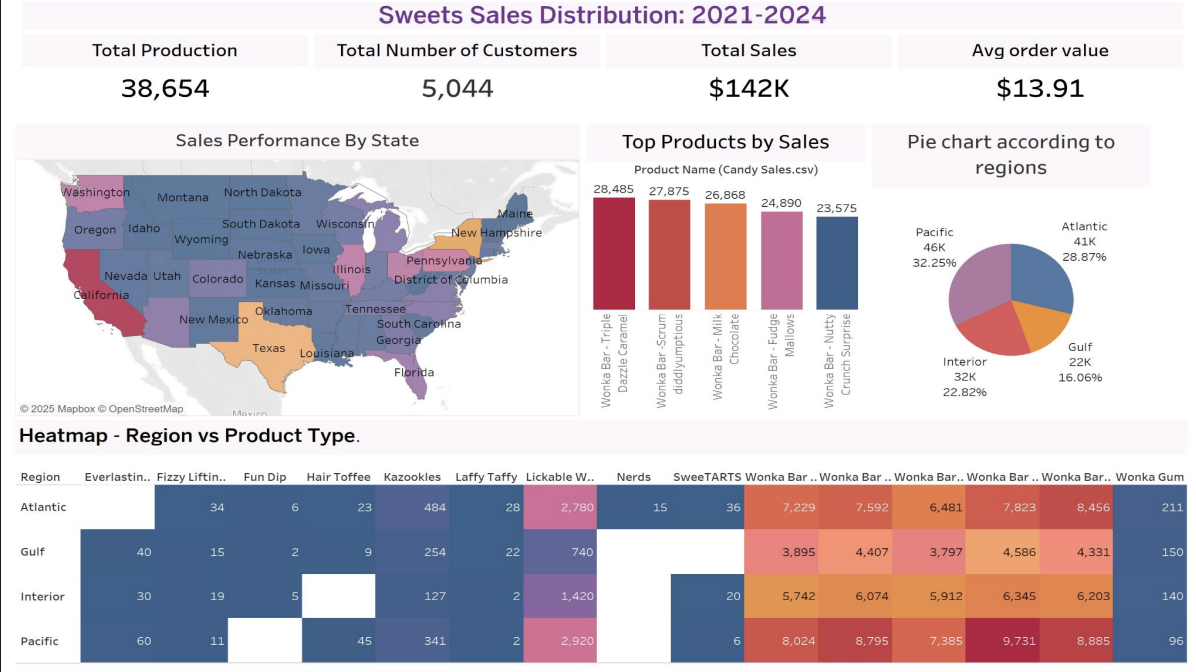

The page's visual inventory and layout, read from the dashboard file:
{"tool":"tableau","page":{"name":"Dashboard 2","canvas":[1000,1000],"units":"permille","ordinal":0},"visuals":[{"type":"text","box":[5.5,9.4,989,51.6]},{"type":"worksheet","title":"Sheet 6","mark":"Text","box":[5.5,61,247.6,123.2]},{"type":"worksheet","title":"Sheet 7","mark":"Automatic","box":[253.1,61,247.6,123.2]},{"type":"worksheet","title":"Sheet 8","mark":"Automatic","box":[500.7,61,246.9,123.2]},{"type":"worksheet","title":"Sheet 8 (2)","mark":"Text","box":[747.6,61,246.9,123.2]},{"type":"worksheet","title":"Sheet 1","mark":"Automatic","box":[0,204.2,483.4,473]},{"type":"worksheet","title":"Sheet 9","mark":"Automatic","rows":["Sales"],"cols":["Product Name (Candy_Sales.csv)"],"box":[483.4,204.2,242.1,464.8]},{"type":"worksheet","title":"Sheet 12","mark":"Pie","box":[725.5,204.2,241.4,464.8]}]}

Visuals, with their boxes on the dashboard's canvas, which has no fixed pixel size, in thousandths of its width and height (x1, y1, x2, y2). These are canvas units, not pixel positions in the 1196x672 screenshot, which may show the page scaled, cropped or inside an application window:
text: Rect(6, 9, 994, 61)
"Sheet 6" worksheet (Text marks): Rect(6, 61, 253, 184)
"Sheet 7" worksheet: Rect(253, 61, 501, 184)
"Sheet 8" worksheet: Rect(501, 61, 748, 184)
"Sheet 8 (2)" worksheet (Text marks): Rect(748, 61, 994, 184)
"Sheet 1" worksheet: Rect(0, 204, 483, 677)
"Sheet 9" worksheet: Rect(483, 204, 726, 669)
"Sheet 12" worksheet (Pie marks): Rect(726, 204, 967, 669)
